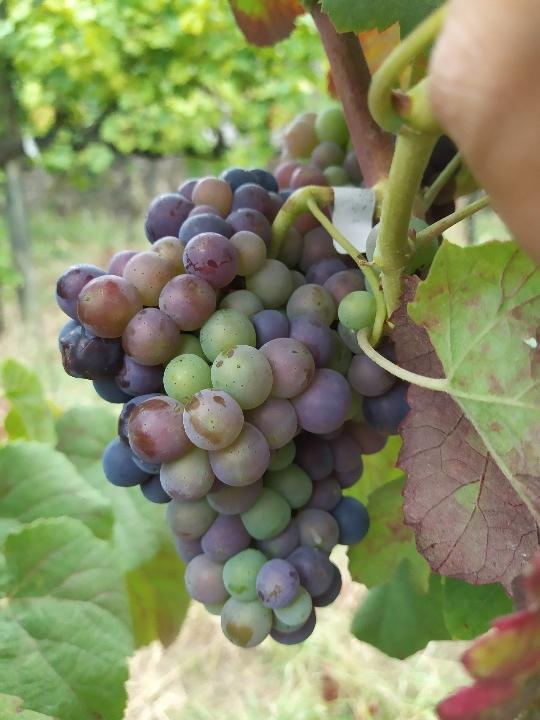grape: (52, 164, 412, 652)
